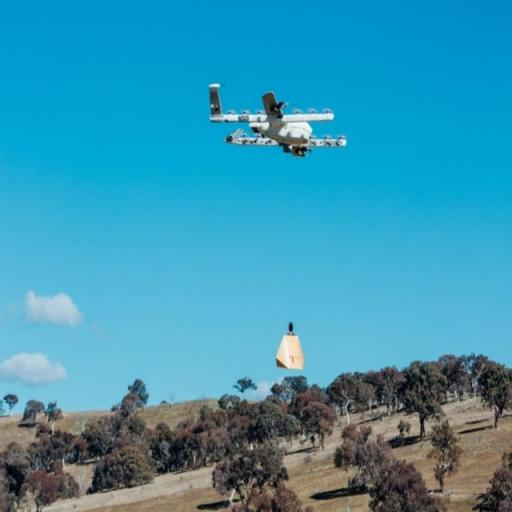uav: (184, 67, 394, 207)
